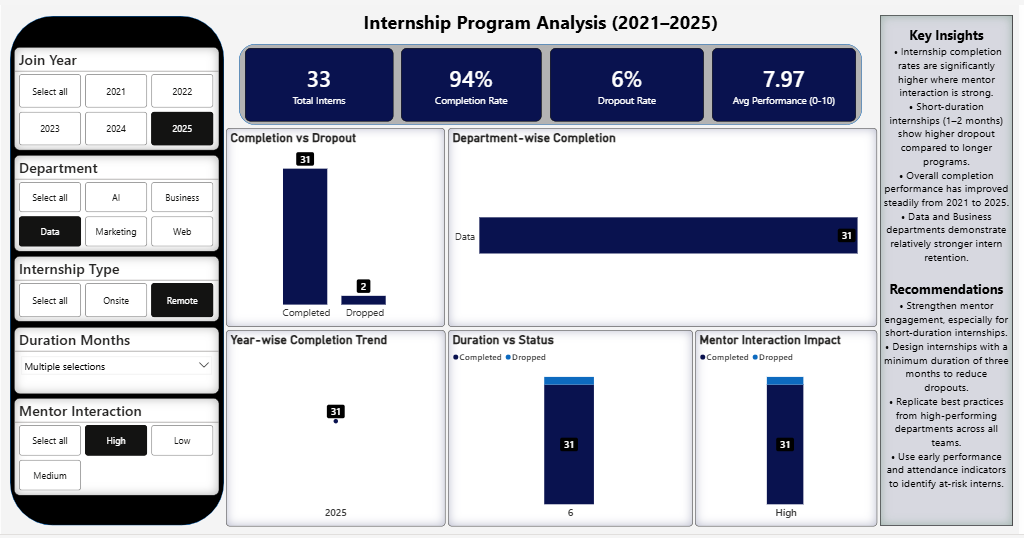

The page's visual inventory and layout, read from the dashboard file:
{"tool":"powerbi","page":{"name":"Overview","canvas":[2080,1080],"ordinal":0},"visuals":[{"type":"shape","box":[17.9,22.4,437.1,1040],"z":0},{"type":"shape","box":[486,79.3,1272,165.3],"z":1000},{"type":"lineChart","title":"Year-wise Completion Trend","fields":{"Category":["Sheet1.Join_Year"],"Y":["Count(Sheet1.Intern_ID)"]},"box":[459.5,663.4,448.3,401.2],"z":2000},{"type":"clusteredBarChart","title":"Department-wise Completion","fields":{"Category":["Sheet1.Department"],"Y":["Count(Sheet1.Intern_ID)"]},"box":[912.2,251,876,405.7],"z":3000},{"type":"advancedSlicerVisual","title":"Join Year","fields":{"Values":["Sheet1.Join_Year"]},"box":[27,85,419.1,210.7],"z":4000},{"type":"clusteredColumnChart","title":"Completion vs Dropout","fields":{"Category":["Sheet1.Status"],"Y":["Count(Sheet1.Intern_ID)"]},"box":[459,251.3,447.4,405.6],"z":5000},{"type":"shape","box":[533.4,0,1138.6,67.2],"z":6000},{"type":"columnChart","title":"Duration vs Status","fields":{"Category":["Sheet1.Duration_Months"],"Y":["Count(Sheet1.Intern_ID)"],"Series":["Sheet1.Status"]},"box":[912.5,663.4,500,401.1],"z":7000},{"type":"columnChart","title":"Mentor Interaction Impact","fields":{"Category":["Sheet1.Mentor_Interaction"],"Y":["Count(Sheet1.Intern_ID)"],"Series":["Sheet1.Status"]},"box":[1416.6,663.4,372.1,401.2],"z":8000},{"type":"advancedSlicerVisual","title":"Internship Type","fields":{"Values":["Sheet1.Internship_Type"]},"box":[27,513.1,419.1,134.5],"z":9000},{"type":"slicer","title":"Duration Months","fields":{"Values":["Sheet1.Duration_Months"]},"box":[27,656.5,418.8,136.7],"z":10000},{"type":"textbox","box":[1794.1,19.8,271.1,1042.5],"z":11000},{"type":"advancedSlicerVisual","title":"Department","fields":{"Values":["Sheet1.Department"]},"box":[27,306.9,419.1,197.2],"z":12000},{"type":"advancedSlicerVisual","title":"Mentor Interaction","fields":{"Values":["Sheet1.Mentor_Interaction"]},"box":[27,802.3,419.1,199.5],"z":13000},{"type":"card","fields":{"Values":["Sheet1.Dropout Rate %"]},"box":[1121.3,88.1,313.8,150.2],"z":14000},{"type":"card","fields":{"Values":["Avg(Sheet1.Performance_Score)"]},"box":[1452.4,87.4,293.6,150.2],"z":15000},{"type":"card","fields":{"Values":["Count(Sheet1.Intern_ID)"]},"box":[497.6,87.4,302.6,150.2],"z":16000},{"type":"card","fields":{"Values":["Sheet1.Completion Rate %"]},"box":[816.4,88.1,286.9,150.2],"z":17000}]}

Visuals, with their boxes in screenshot pixels (x1, y1, x2, y2), scaled from the page's 2080x1080 canvas onto the 1024x538 screenshot:
shape: select_region(9, 11, 224, 529)
shape: select_region(239, 40, 865, 122)
"Year-wise Completion Trend" lineChart: select_region(226, 330, 447, 530)
"Department-wise Completion" clusteredBarChart: select_region(449, 125, 880, 327)
"Join Year" advancedSlicerVisual: select_region(13, 42, 220, 147)
"Completion vs Dropout" clusteredColumnChart: select_region(226, 125, 446, 327)
shape: select_region(263, 0, 823, 33)
"Duration vs Status" columnChart: select_region(449, 330, 695, 530)
"Mentor Interaction Impact" columnChart: select_region(697, 330, 881, 530)
"Internship Type" advancedSlicerVisual: select_region(13, 256, 220, 323)
"Duration Months" slicer: select_region(13, 327, 219, 395)
textbox: select_region(883, 10, 1017, 529)
"Department" advancedSlicerVisual: select_region(13, 153, 220, 251)
"Mentor Interaction" advancedSlicerVisual: select_region(13, 400, 220, 499)
card - Sheet1.Dropout Rate %: select_region(552, 44, 707, 119)
card - Avg(Sheet1.Performance_Score): select_region(715, 44, 860, 118)
card - Count(Sheet1.Intern_ID): select_region(245, 44, 394, 118)
card - Sheet1.Completion Rate %: select_region(402, 44, 543, 119)
